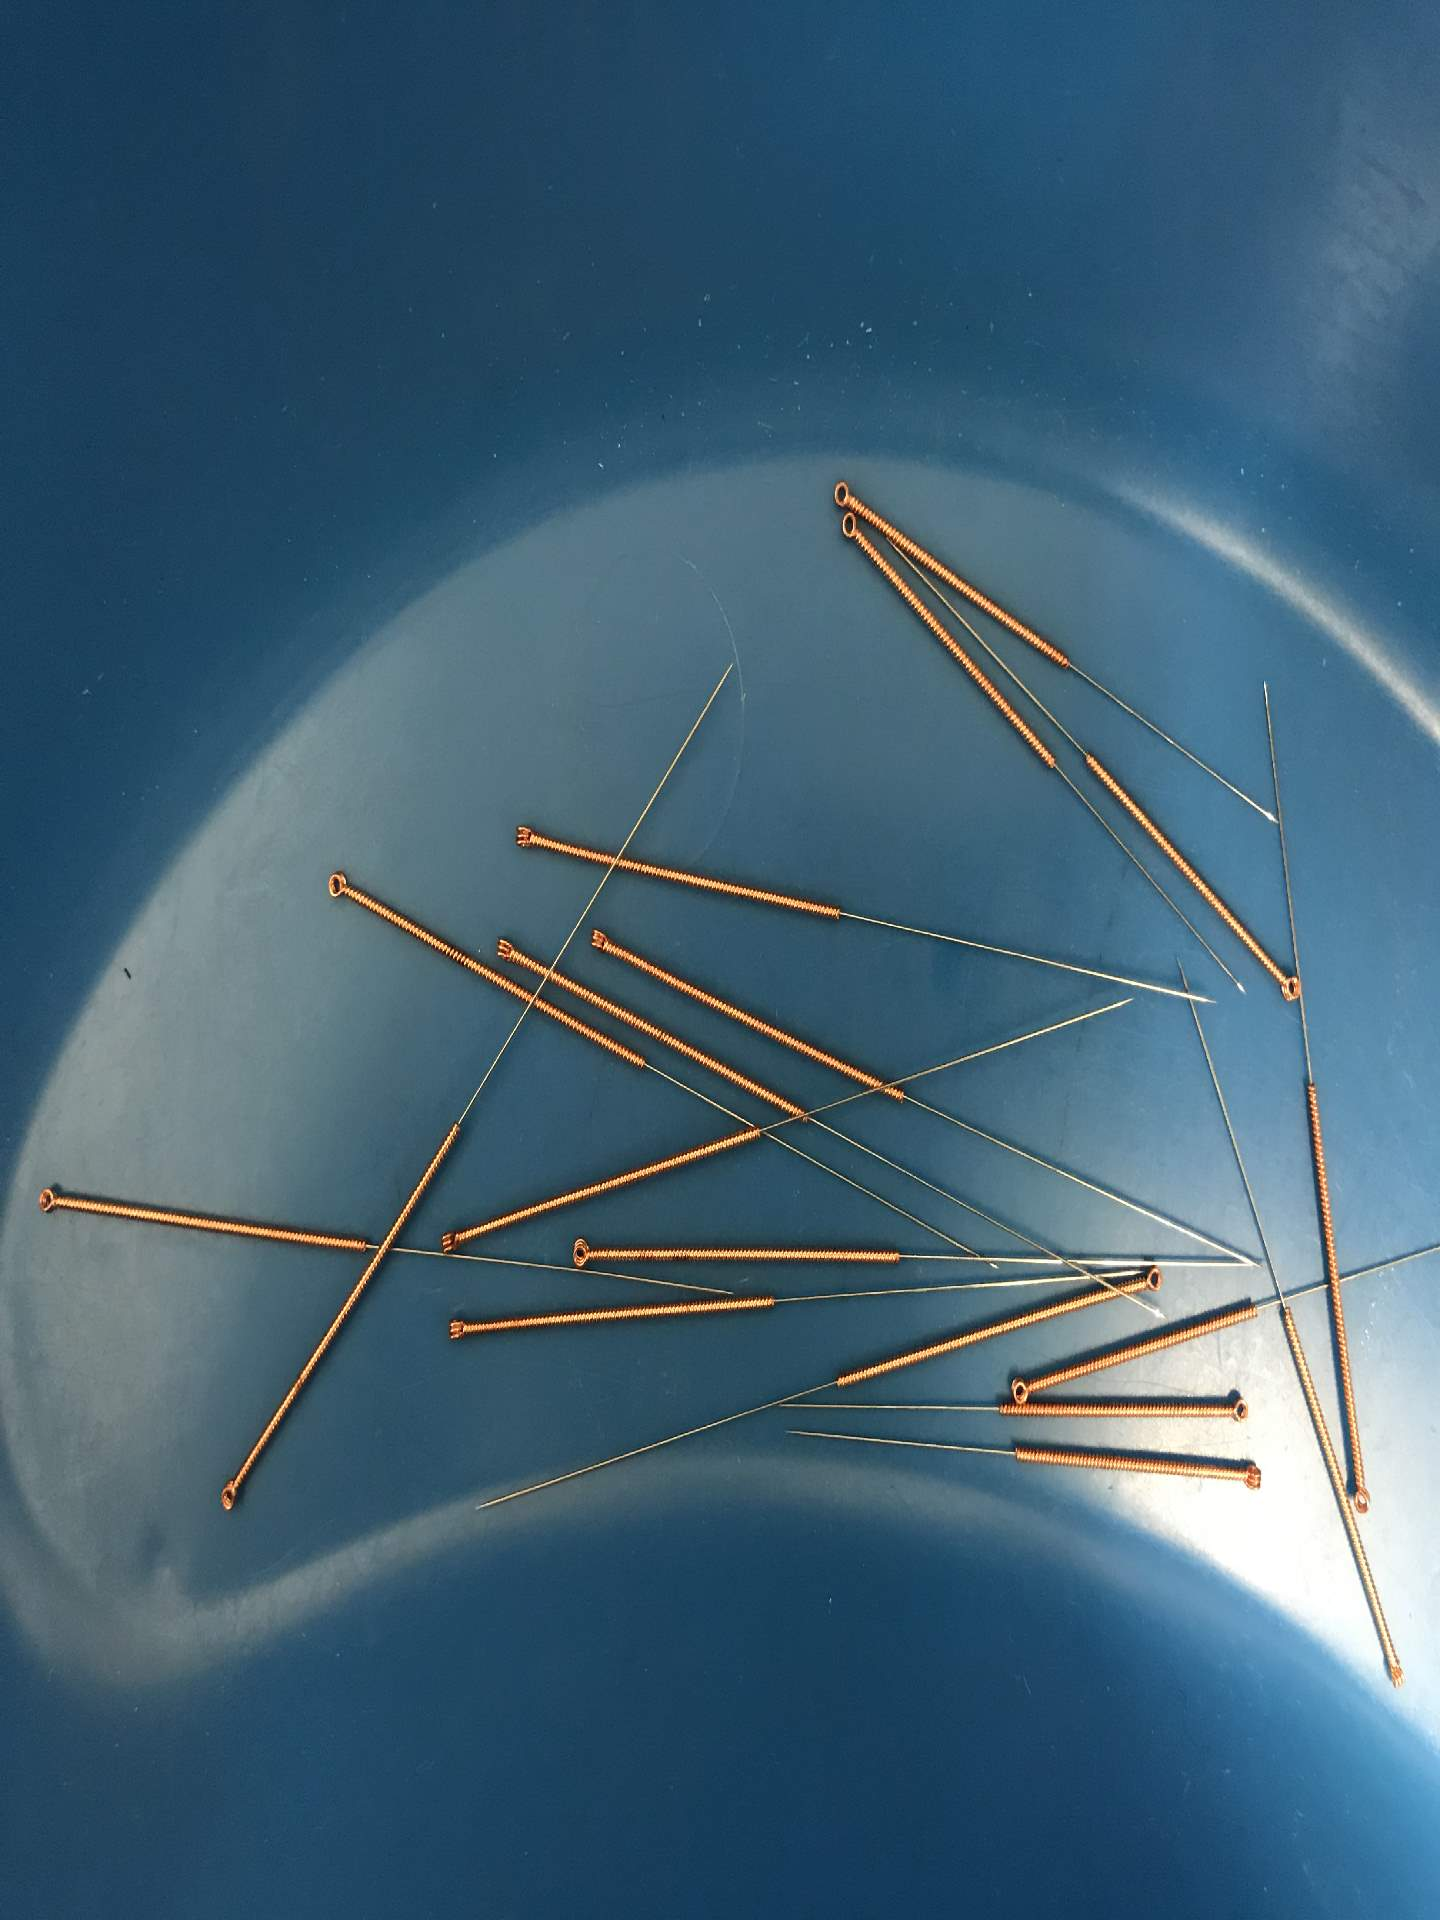needle: (1265, 955, 1305, 1008), (561, 1231, 604, 1274), (318, 862, 358, 907), (210, 1471, 247, 1519), (504, 816, 545, 859), (29, 1181, 68, 1225), (824, 472, 864, 514), (1376, 1649, 1411, 1696), (439, 1309, 476, 1352), (1218, 1386, 1255, 1429), (431, 1222, 467, 1264), (1231, 1454, 1268, 1497), (487, 928, 525, 968), (1004, 1370, 1041, 1407), (1348, 1473, 1378, 1518), (582, 921, 616, 960), (833, 508, 865, 547), (1134, 1262, 1168, 1297)
